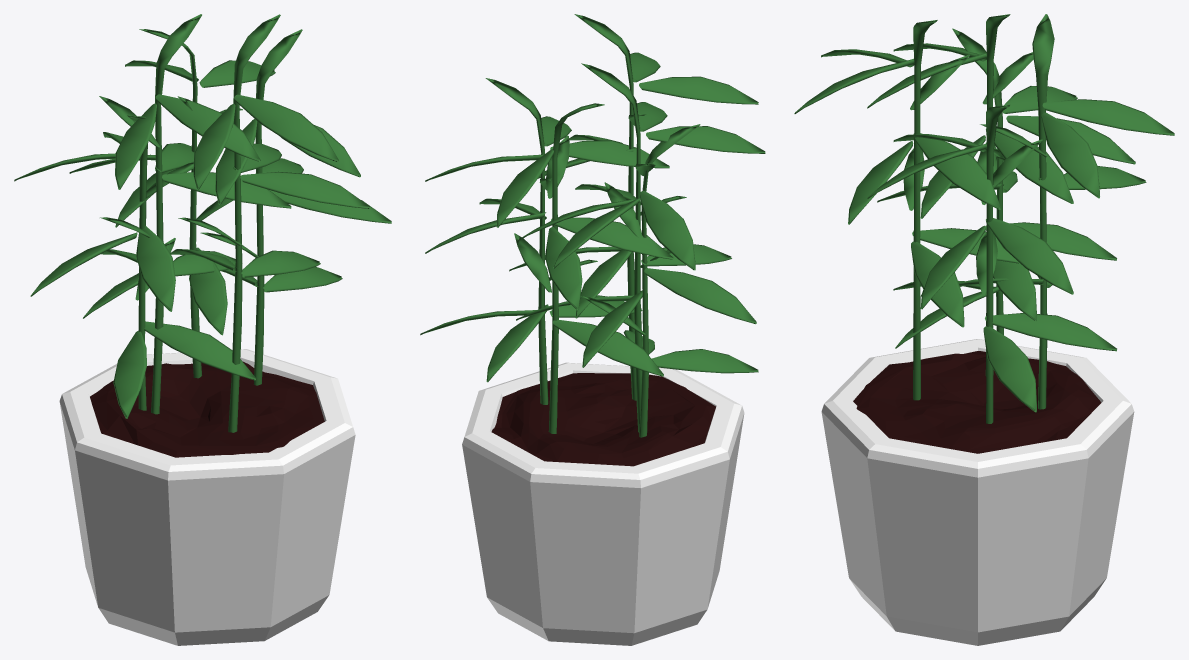
The model's file is kalmegh.glb.
The picture shows the model from 3 angles, left to right: view 1: azimuth 30°, elevation 25°; view 2: azimuth 150°, elevation 25°; view 3: azimuth 270°, elevation 25°; orthographic projection. The views are drawn at different scales.
Visible parts, largest first — view 1: kalmegh; view 2: kalmegh; view 3: kalmegh.
Part boxes in pixels (<box>): kalmegh: <box>14,14,391,645</box>; kalmegh: <box>420,14,765,645</box>; kalmegh: <box>794,14,1174,645</box>.
Size of the model in its own units: 1.74 by 2.98 by 1.69.
